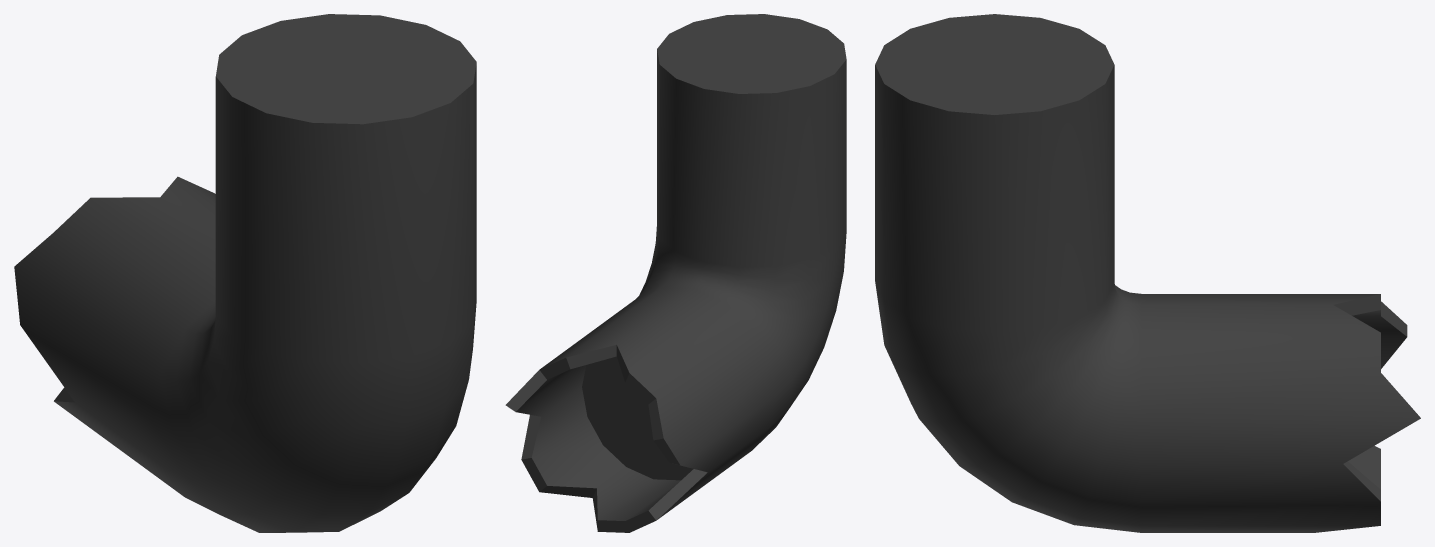
The model's file is Broken90DPipe.fbx.
3 views of the same model, side by side, from view 1: azimuth 30°, elevation 25°; view 2: azimuth 150°, elevation 25°; view 3: azimuth 270°, elevation 25° (orthographic). The views are drawn at different scales.
Parts seen in each view (by area): view 1: BrokenElbowPipe; view 2: BrokenElbowPipe; view 3: BrokenElbowPipe.
Boxes of the visible parts, left/top/right/bottom form: BrokenElbowPipe: left=14, top=14, right=476, bottom=532; BrokenElbowPipe: left=505, top=14, right=846, bottom=532; BrokenElbowPipe: left=875, top=14, right=1420, bottom=532.
Bounding box in the file's own units: 200 × 422 × 456.
